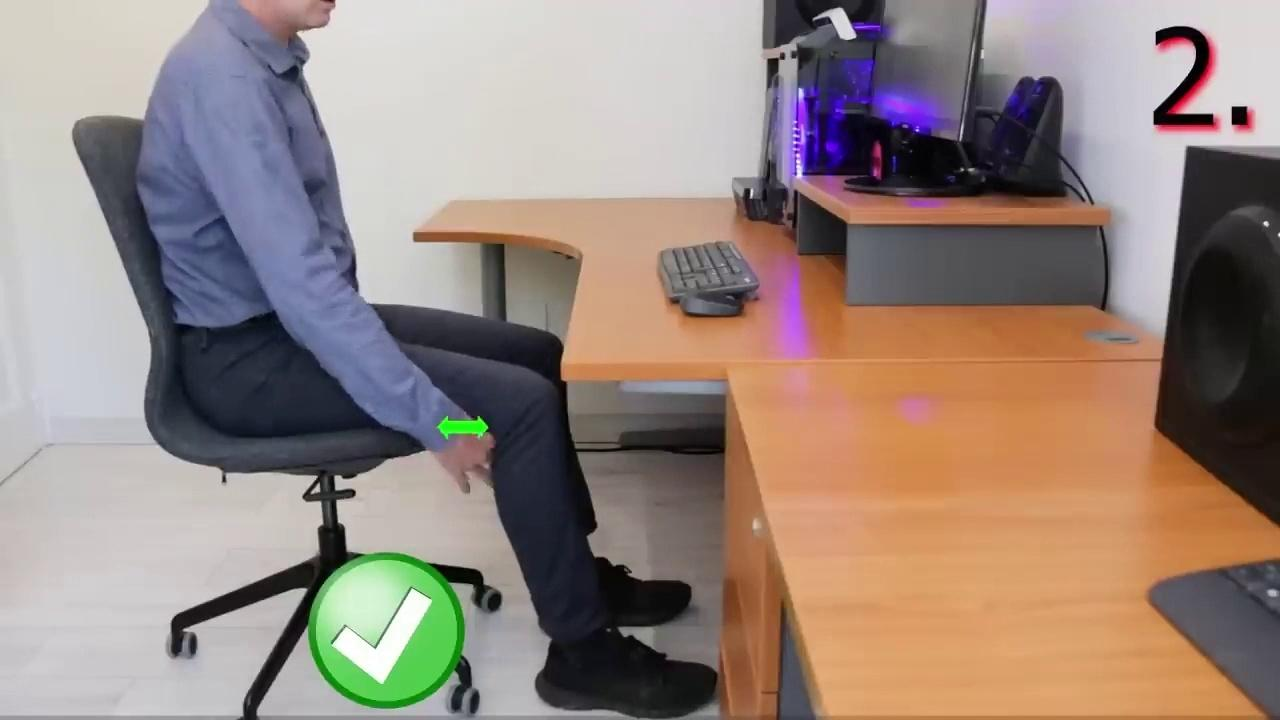GoodPosture: (133, 0, 716, 718)
